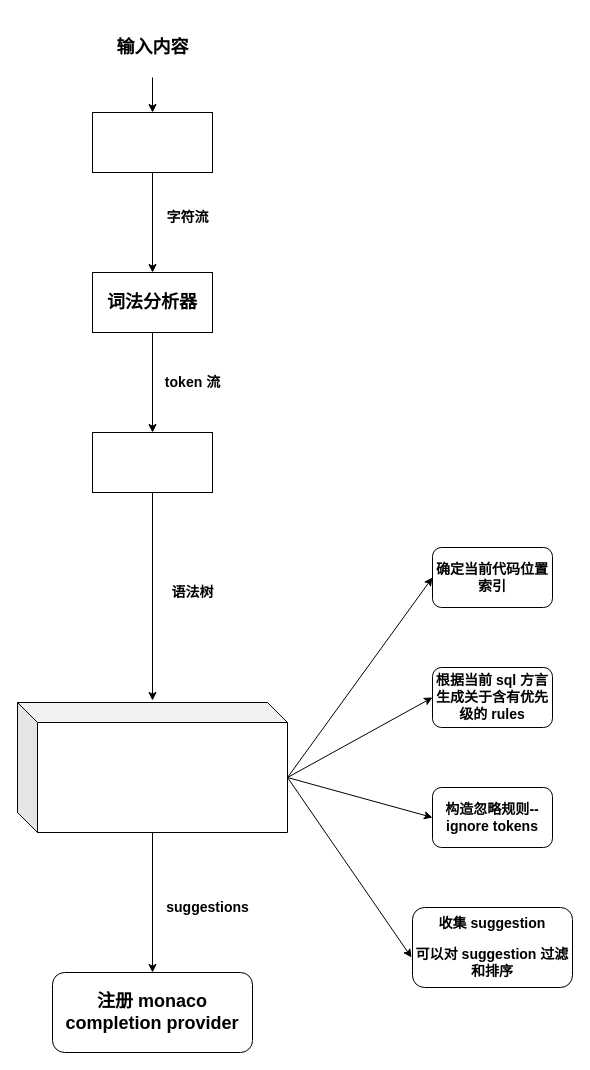
This 590x1070 diagram has some shape labels left out. Each missing label, with the box of its shape:
Antlr4 入口: (92, 112, 212, 172)
auto-completion 模块: (16, 702, 288, 832)
语法分析器: (92, 432, 212, 492)
